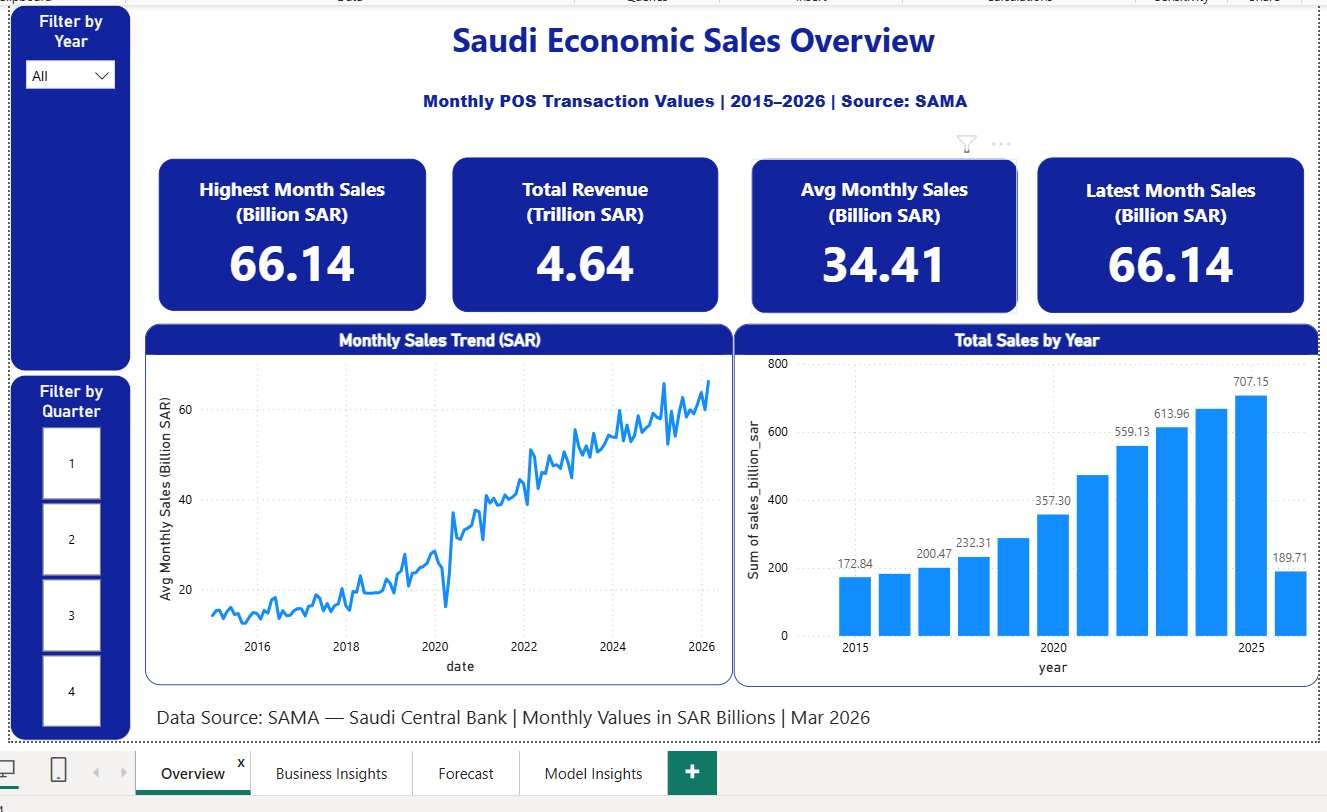

The page's visual inventory and layout, read from the dashboard file:
{"tool":"powerbi","page":{"name":"Overview","canvas":[1280,720],"ordinal":0},"visuals":[{"type":"cardVisual","title":"Latest Month Sales ","fields":{"Data":["saudi_sales_clean.Latest Month Sales (Billion)"]},"box":[1005,149.6,261,152],"z":0},{"type":"cardVisual","title":"Total Revenue (SAR )","fields":{"Data":["saudi_sales_clean.Total Revenue (Trillion SAR)"]},"box":[432.5,148.8,260,151.2],"z":1000},{"type":"cardVisual","title":"Highest Month Sales     ","fields":{"Data":["saudi_sales_clean.Highest Month Sales (B)"]},"box":[145,150,261.2,148.8],"z":2000},{"type":"cardVisual","title":"Avg Monthly Sales","fields":{"Data":["saudi_sales_clean.Avg Monthly Sales (B)"]},"box":[725.1,150.8,261,150.8],"z":3000},{"type":"lineChart","title":"Monthly Sales Trend (SAR)","fields":{"Y":["saudi_sales_clean.Avg Monthly Sales (Billion SAR)"],"Category":["saudi_sales_clean.date"]},"box":[132.5,311.2,575,353.8],"z":4000},{"type":"clusteredColumnChart","title":"Total Sales by Year","fields":{"Category":["saudi_sales_clean.year"],"Y":["Sum(saudi_sales_clean.sales_billion_sar)"]},"box":[707.5,311.2,572.5,355],"z":5000},{"type":"slicer","title":"Filter by Year","fields":{"Values":["saudi_sales_clean.year"]},"box":[0,0,118,358],"z":6000},{"type":"textbox","box":[252.5,0,837.5,70],"z":7000},{"type":"textbox","box":[132.7,673.2,1120.8,47.1],"z":8000},{"type":"slicer","title":"Filter by Quarter","fields":{"Values":["saudi_sales_clean.quarter"]},"box":[0,362.5,118.8,357.5],"z":9000},{"type":"textbox","box":[252.5,71.2,837.5,70],"z":10000}]}

Visuals, with their boxes on the page's 1280x720 design canvas (x1, y1, x2, y2). These are canvas units, not pixel positions in the 1327x812 screenshot, which may show the page scaled, cropped or inside an application window:
"Latest Month Sales " cardVisual: <region>1005, 150, 1266, 302</region>
"Total Revenue (SAR )" cardVisual: <region>432, 149, 692, 300</region>
"Highest Month Sales     " cardVisual: <region>145, 150, 406, 299</region>
"Avg Monthly Sales" cardVisual: <region>725, 151, 986, 302</region>
"Monthly Sales Trend (SAR)" lineChart: <region>132, 311, 708, 665</region>
"Total Sales by Year" clusteredColumnChart: <region>708, 311, 1280, 666</region>
"Filter by Year" slicer: <region>0, 0, 118, 358</region>
textbox: <region>252, 0, 1090, 70</region>
textbox: <region>133, 673, 1254, 720</region>
"Filter by Quarter" slicer: <region>0, 362, 119, 720</region>
textbox: <region>252, 71, 1090, 141</region>
